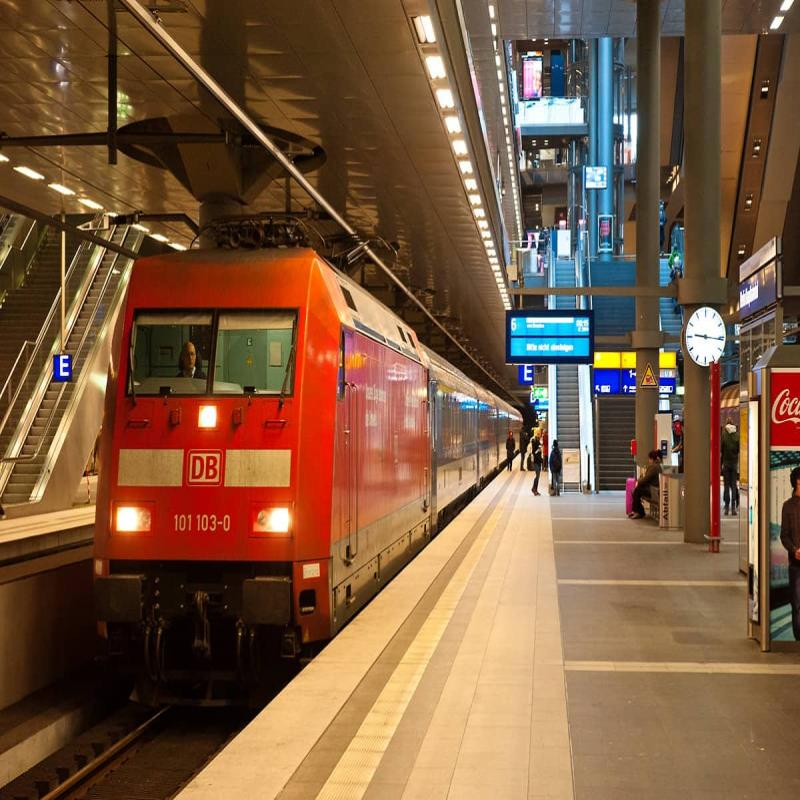train: (84, 223, 475, 614)
